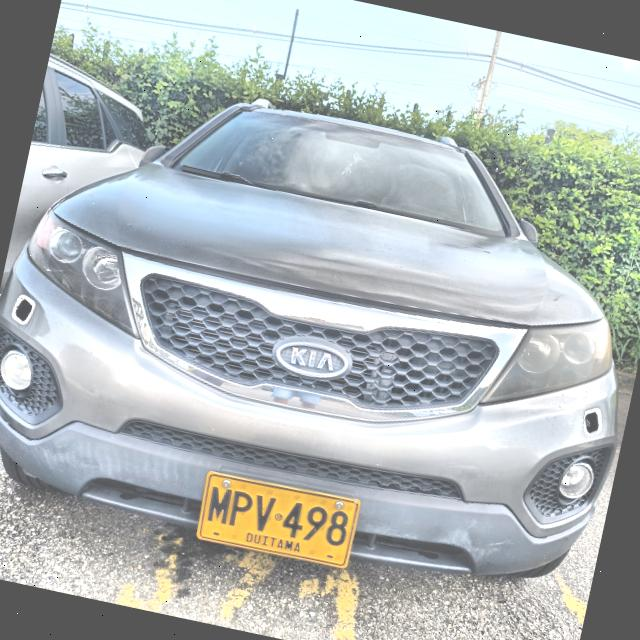plate: (195, 471, 358, 567)
